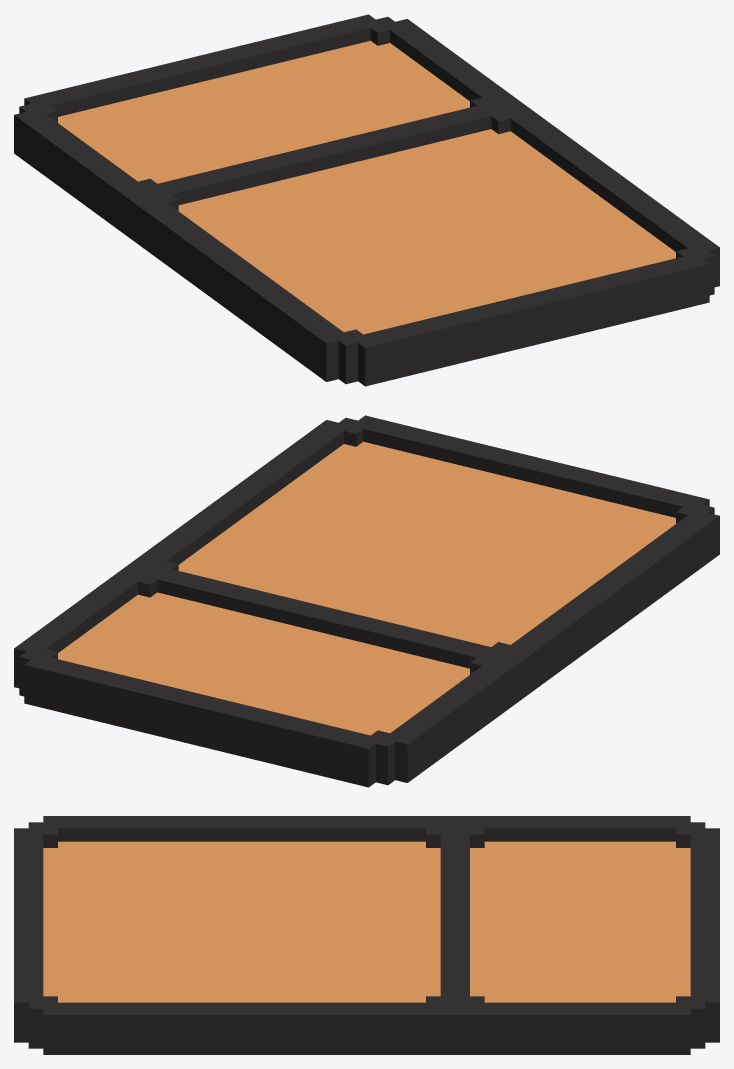
The model's file is _Card_base.obj.
The picture shows the model from 3 angles, top to bottom: view 1: azimuth 30°, elevation 25°; view 2: azimuth 150°, elevation 25°; view 3: azimuth 270°, elevation 25°; orthographic projection. The views are drawn at different scales.
Bounding box in the file's own units: 3.2 × 0.3 × 4.8.
Materials: 1 (1 with a texture image).
